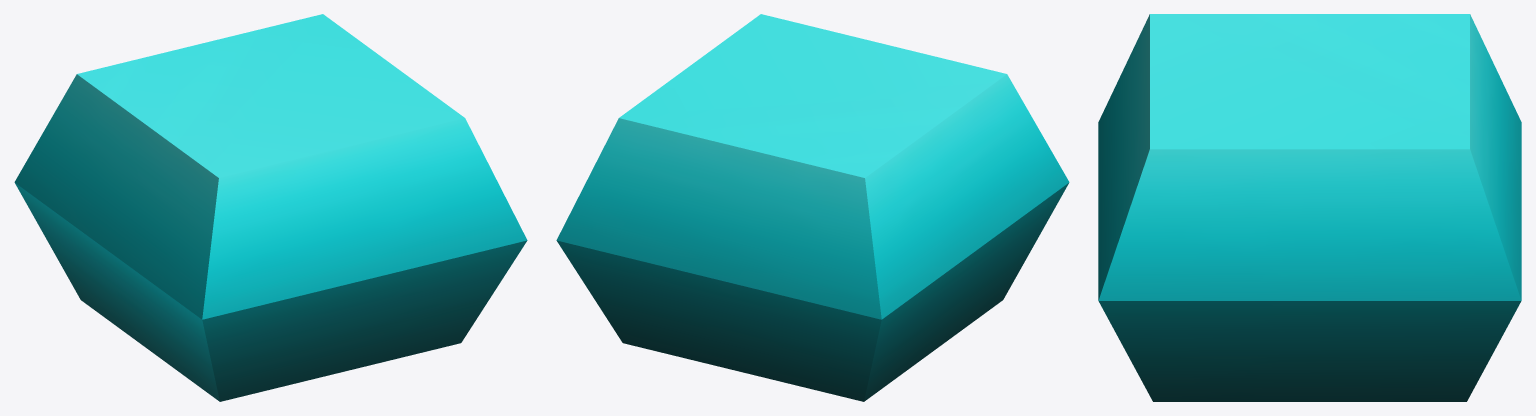
Rendered from Gem_Turquoise.fbx.
3 views of the same model, side by side, from view 1: azimuth 30°, elevation 25°; view 2: azimuth 150°, elevation 25°; view 3: azimuth 270°, elevation 25° (orthographic). The views are drawn at different scales.
Visible parts, largest first — view 1: Gem_Turquoise; view 2: Gem_Turquoise; view 3: Gem_Turquoise.
Part boxes in pixels (x1,y1,x2,y2): Gem_Turquoise: (14, 14, 527, 401); Gem_Turquoise: (556, 14, 1069, 401); Gem_Turquoise: (1098, 14, 1521, 401).
Bounding box in the file's own units: 7.34 × 7.34 × 4.86.
1 material, 1 textured.
